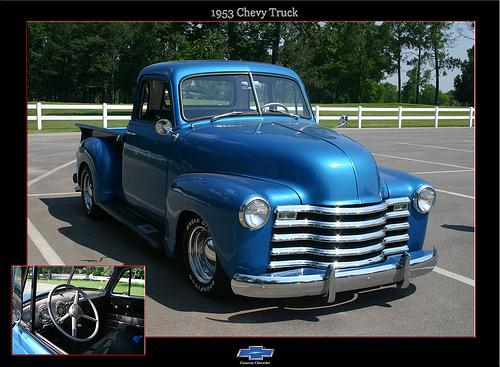truck: (72, 58, 439, 304)
